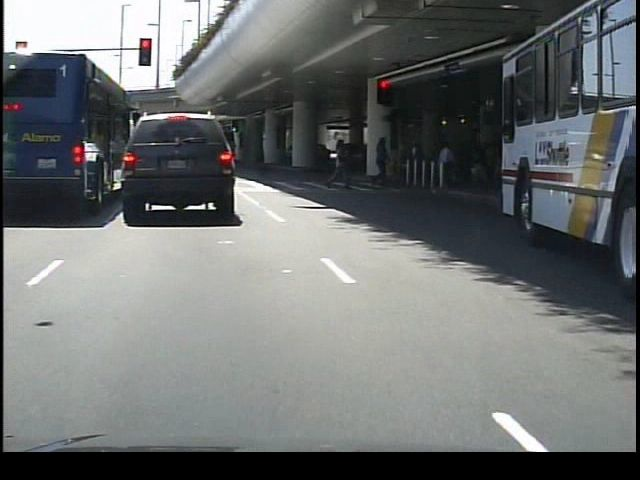person: (369, 133, 395, 189), (328, 132, 353, 189), (435, 138, 458, 194)
